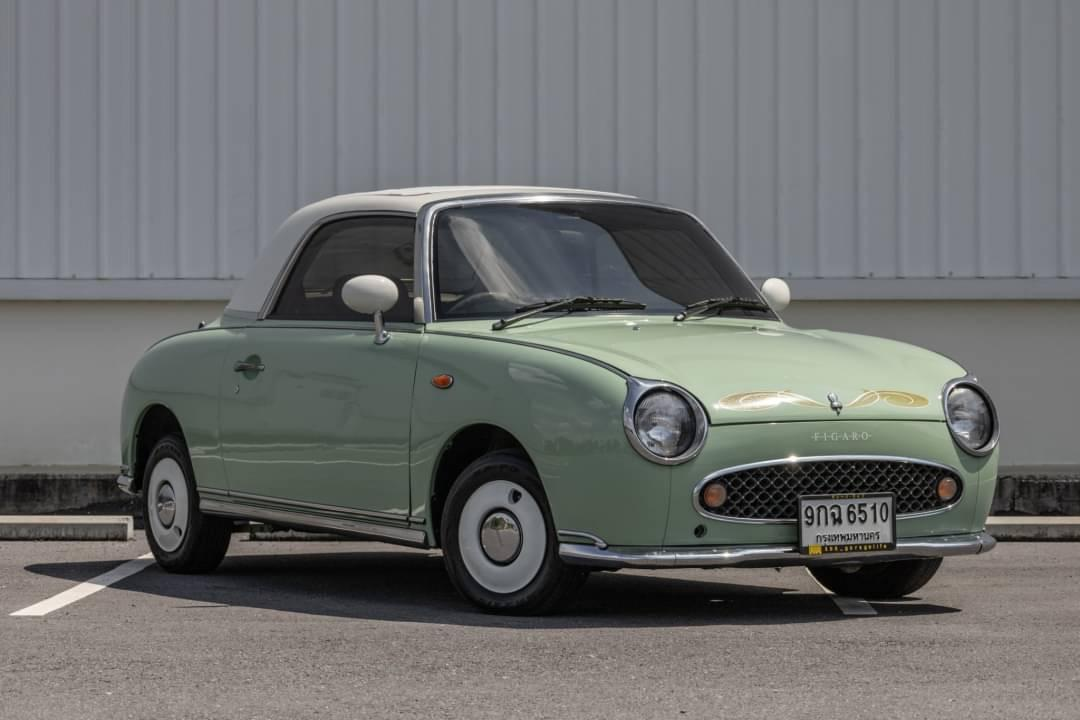license-plate: (794, 491, 899, 557)
